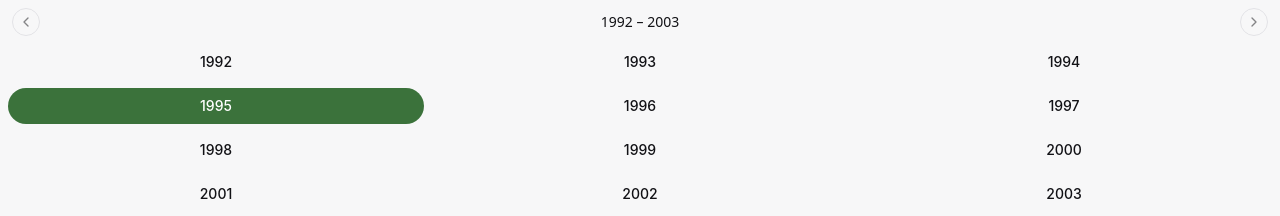
Test case: YearSelect › paginates forward and backward
Expected: the text "1992 – 2003" is shown, [601,12,679,32]
Click the button named "Next years": (1254, 22) [1240,8,1268,36]
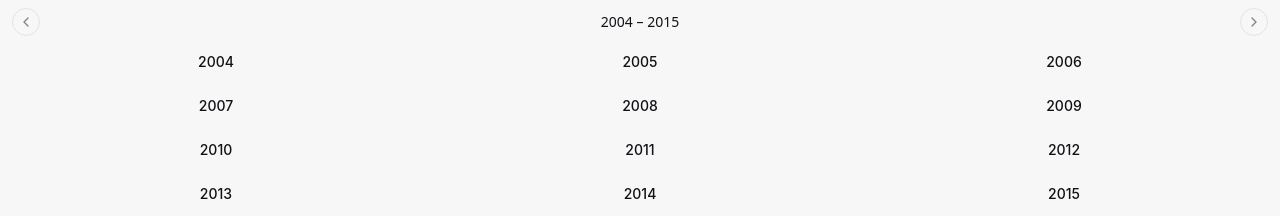
Now the text "2004 – 2015" is shown, box [601,12,679,32]
Now the option "2004" is shown, box [8,44,424,80]
Click the button named "Previous years": (26, 22) [12,8,40,36]
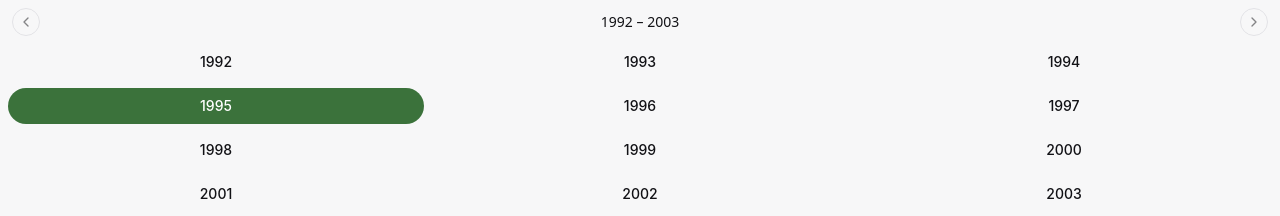
Now the text "1992 – 2003" is shown, box [601,12,679,32]
